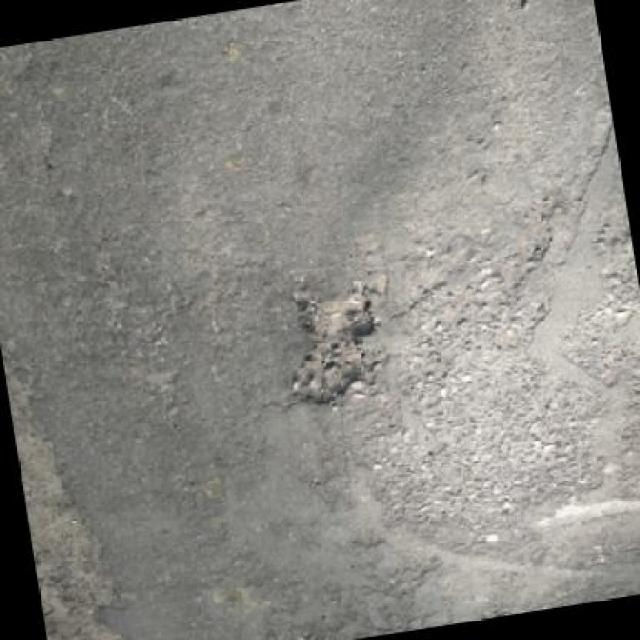pothole1: (282, 286, 396, 414)
